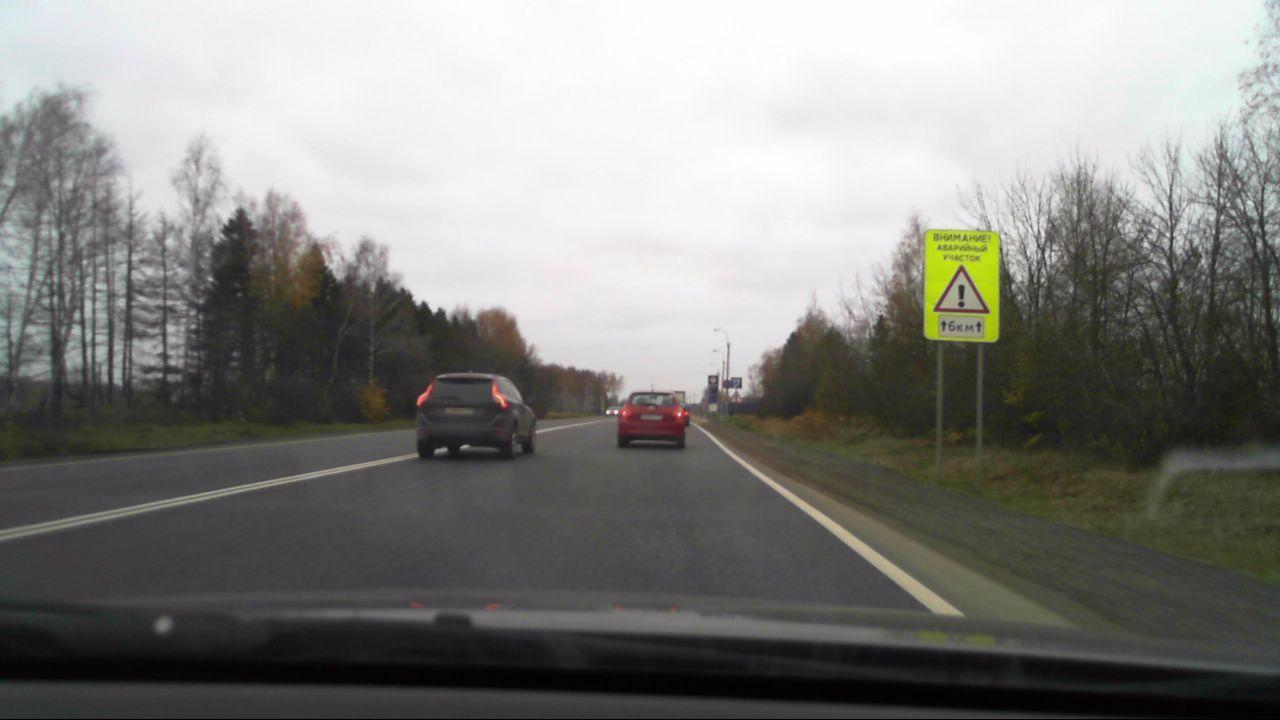1_33: (932, 263, 991, 313)
1_8: (728, 390, 743, 402)
5_15_3: (732, 376, 743, 388)
8_2_1: (939, 315, 989, 344)
